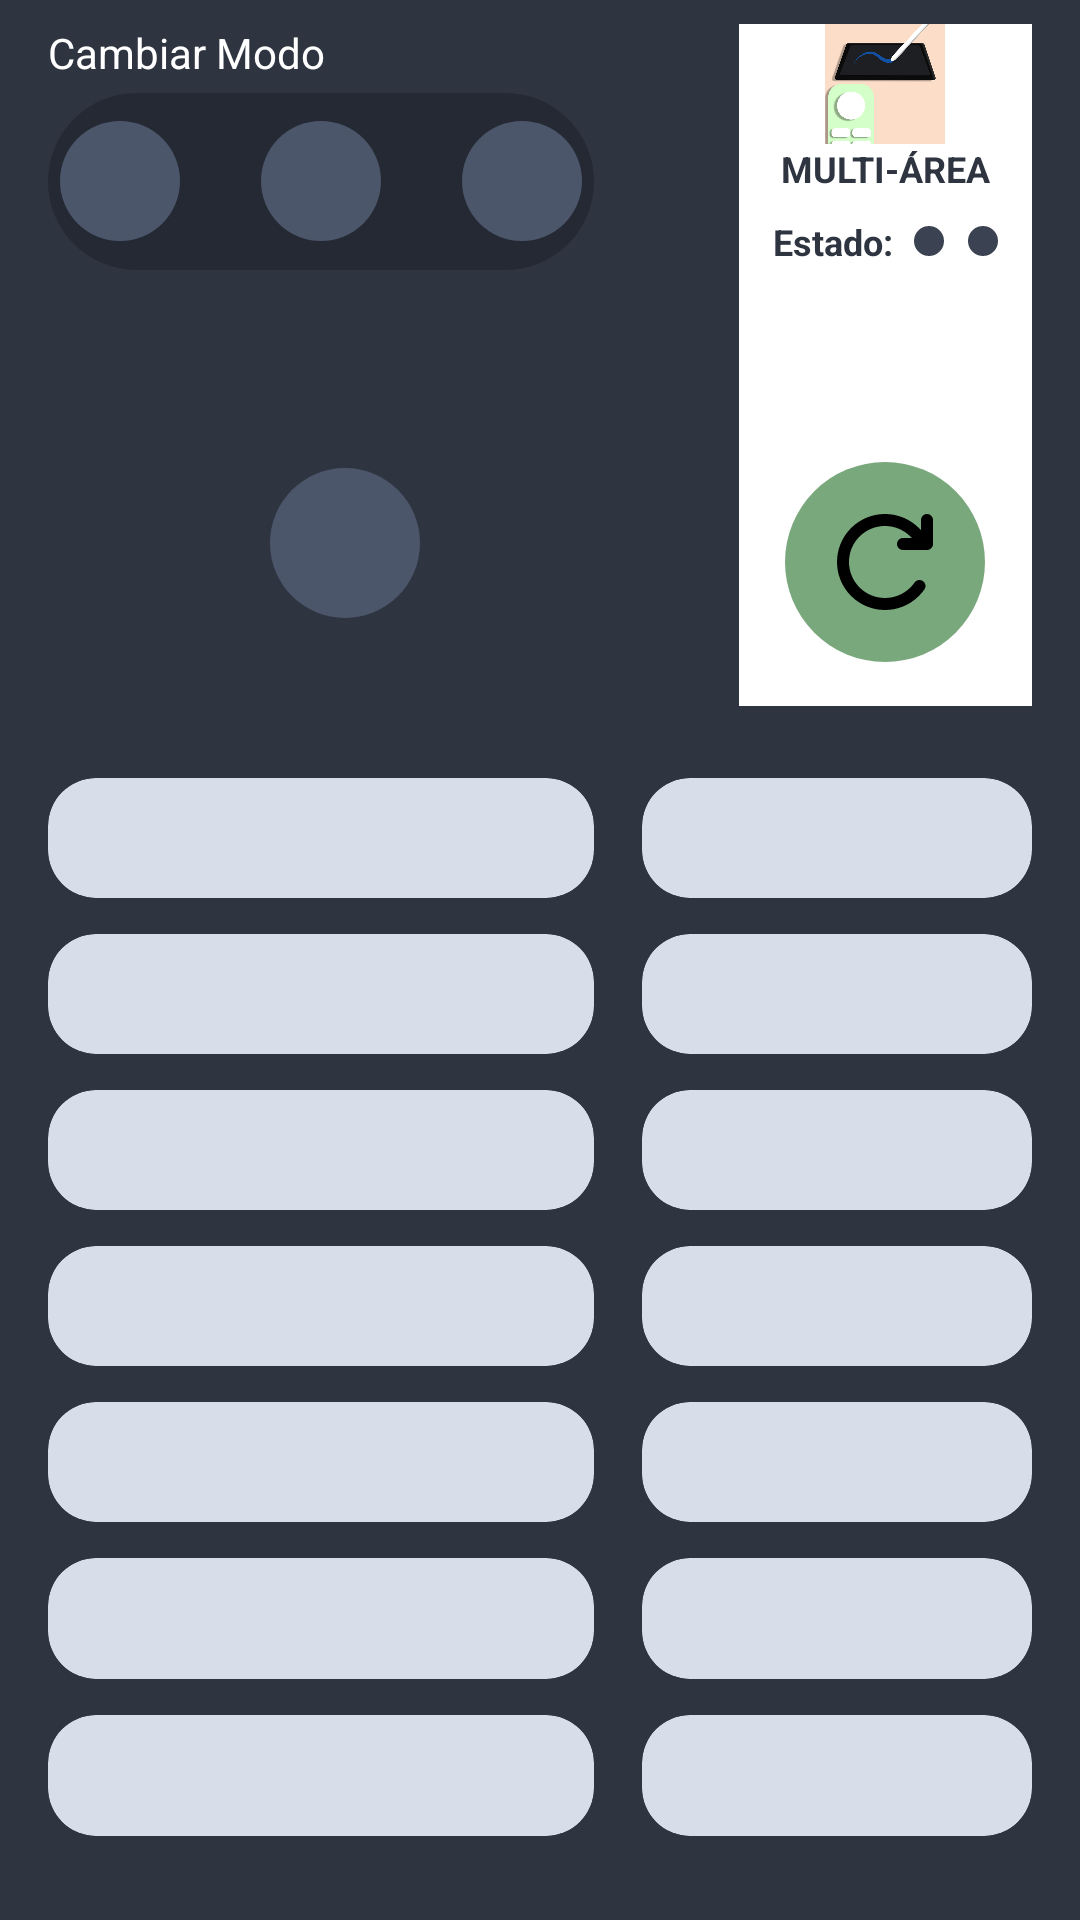

Named icons in this screenshot (1080px x 1920px) and their centers, (x,y):
Botón de reconexión manual: (885,562)
